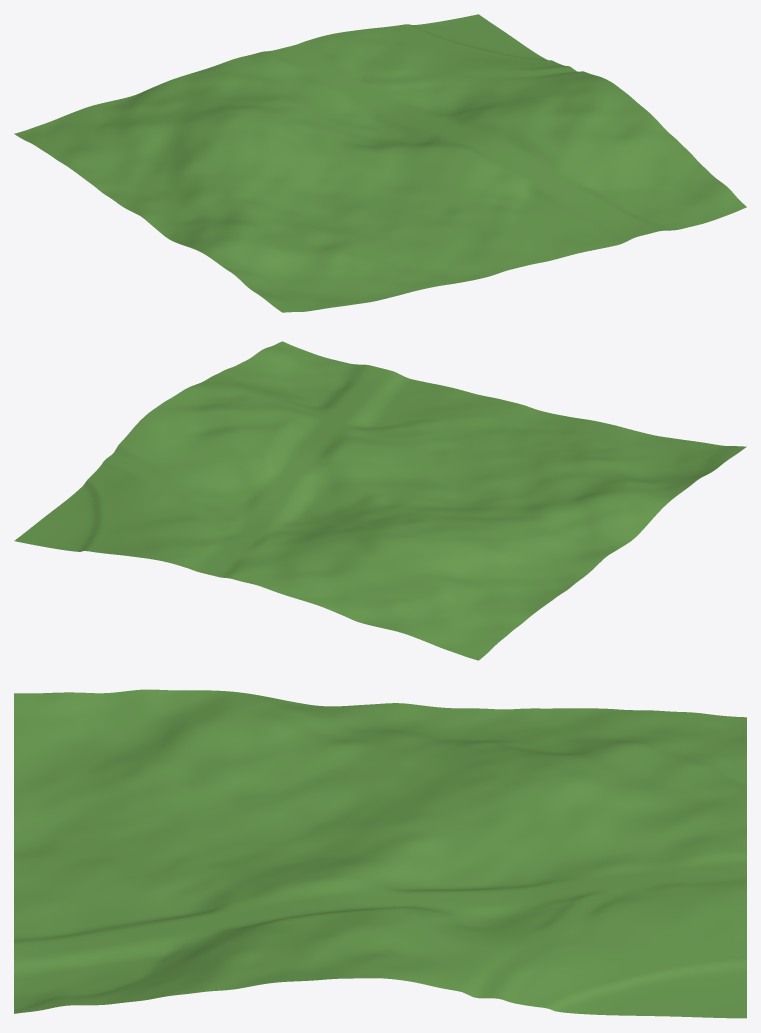
The model's file is SM_Terrain_03_02.fbx.
3 views of the same model, one above another, from view 1: azimuth 30°, elevation 25°; view 2: azimuth 150°, elevation 25°; view 3: azimuth 270°, elevation 25° (orthographic). The views are drawn at different scales.
Visible parts, largest first — view 1: SM_Terrain_03_02; view 2: SM_Terrain_03_02; view 3: SM_Terrain_03_02.
Part boxes in pixels (x1,y1,x2,y2): SM_Terrain_03_02: (14, 14, 746, 312); SM_Terrain_03_02: (14, 341, 746, 660); SM_Terrain_03_02: (14, 689, 746, 1018).
Bounding box in the file's own units: 384 × 28.24 × 384.
